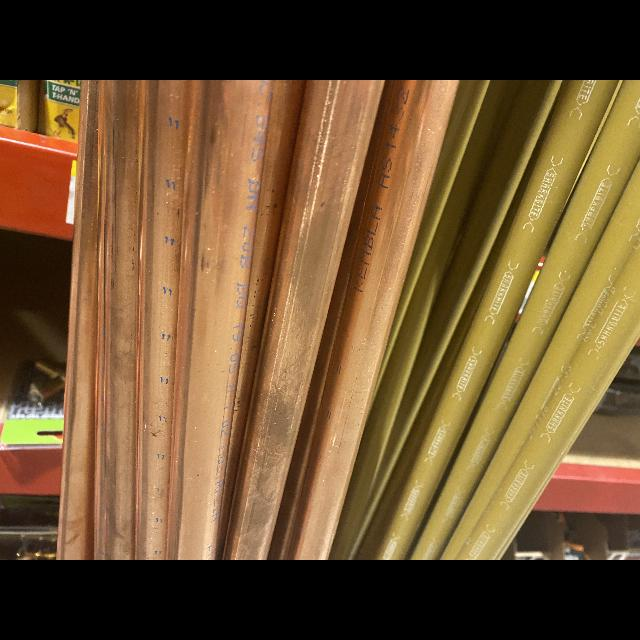Copper: (268, 80, 461, 560), (220, 80, 386, 560), (164, 80, 273, 560), (220, 82, 307, 541), (135, 81, 207, 560), (95, 80, 143, 560), (55, 80, 98, 560)
